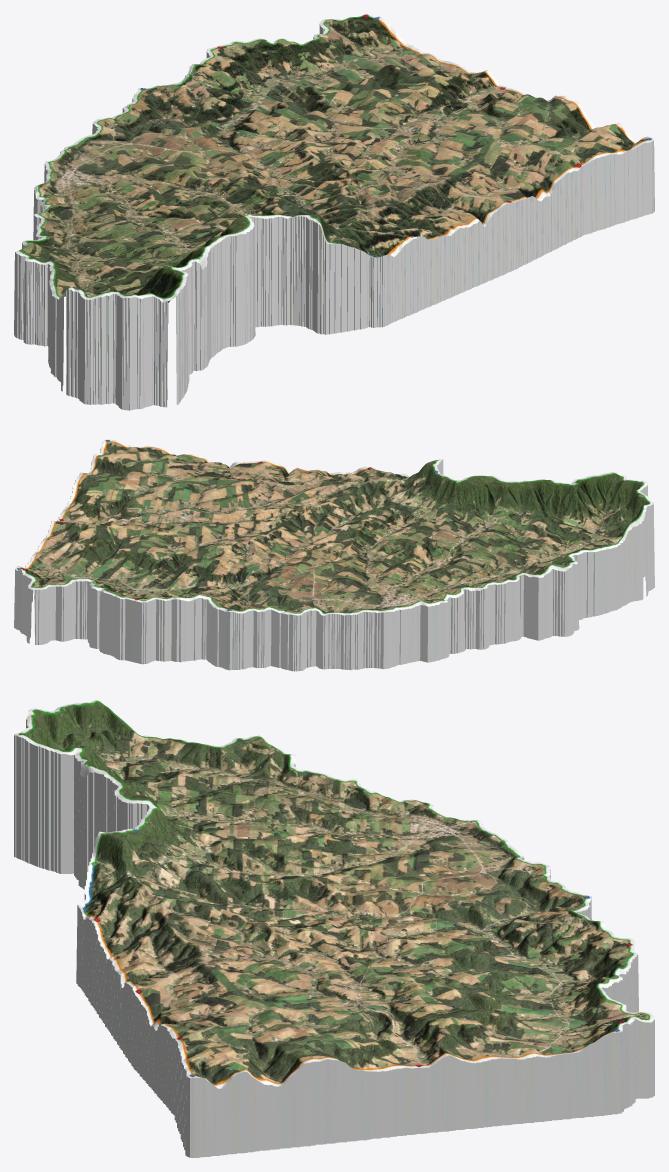
The picture shows the model from 3 angles, top to bottom: view 1: azimuth 30°, elevation 25°; view 2: azimuth 150°, elevation 25°; view 3: azimuth 270°, elevation 25°; orthographic projection. The views are drawn at different scales.
Bounding box in the file's own units: 1 × 0.1713 × 0.7945.
Materials: 1 (1 with a texture image).
